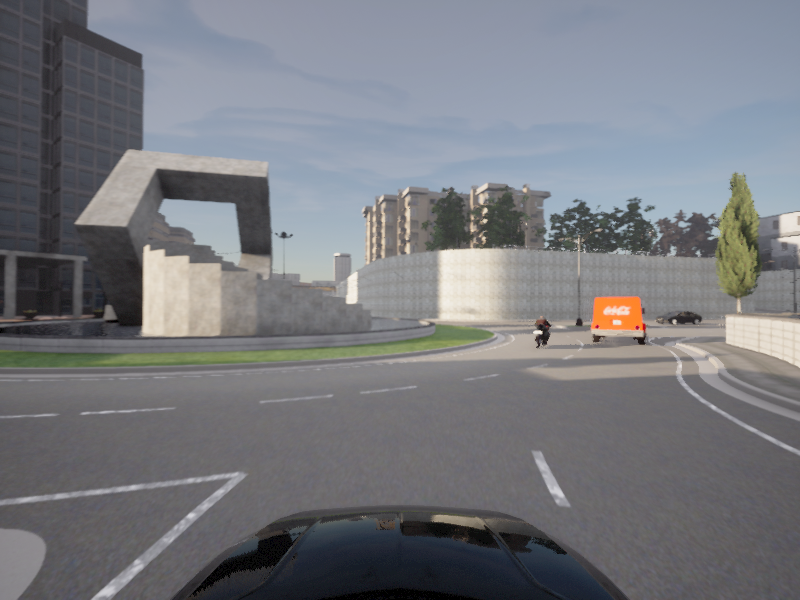vehicle: (588, 296, 647, 345), (528, 315, 554, 349)
